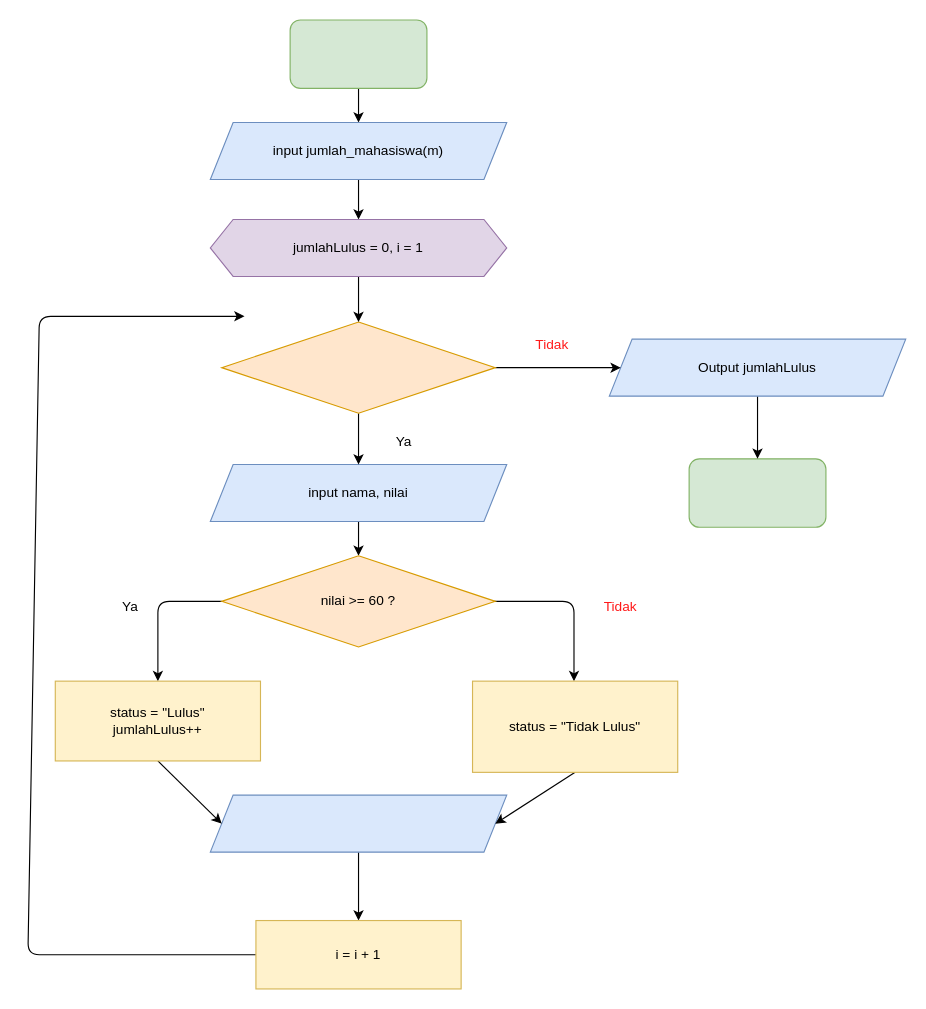
The diagram is 926 pixels wide and 1009 high, and some of its shapes have lost their labels. The box of each missing label's shape, as (x1, y1, x2, y2) in pixels:
i <=m ?: (221, 321, 495, 413)
Mulai: (289, 19, 427, 88)
Output nama, nilai, status: (209, 794, 507, 852)
Selesai: (688, 458, 826, 527)
